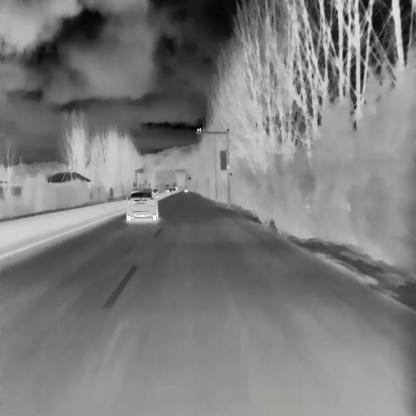car: (126, 188, 158, 220)
